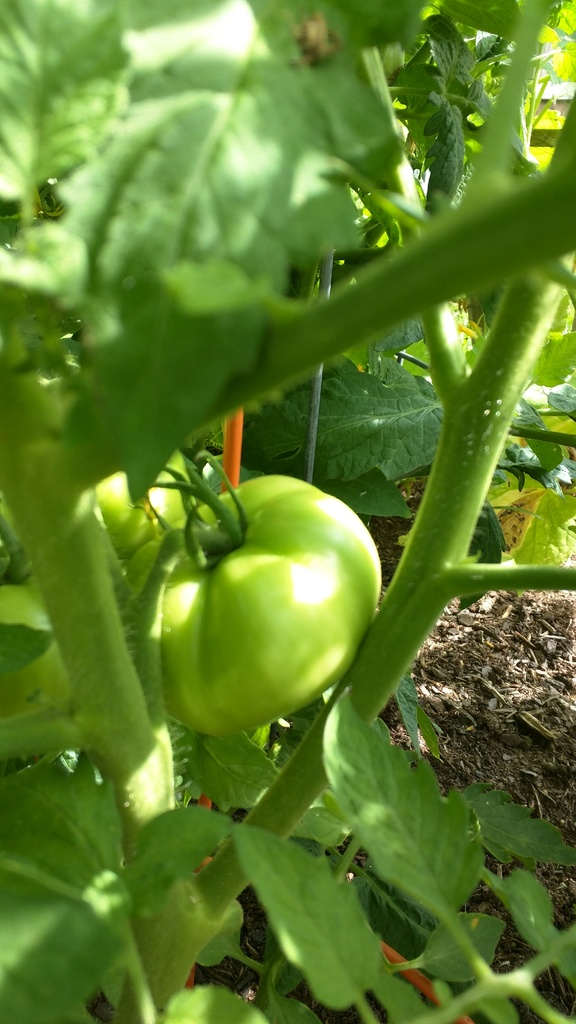Tomato: (136, 444, 376, 733), (0, 581, 73, 717)
